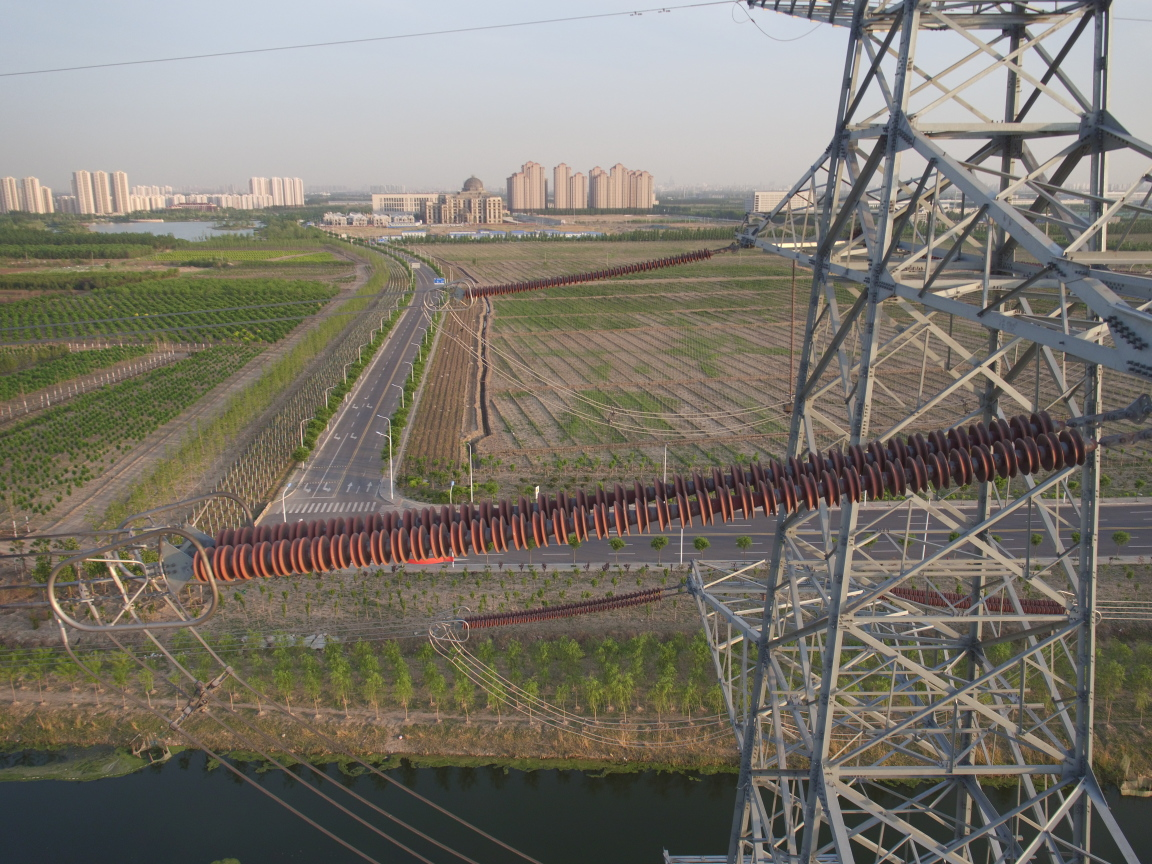insulator: (179, 403, 1129, 590), (460, 243, 723, 300)
